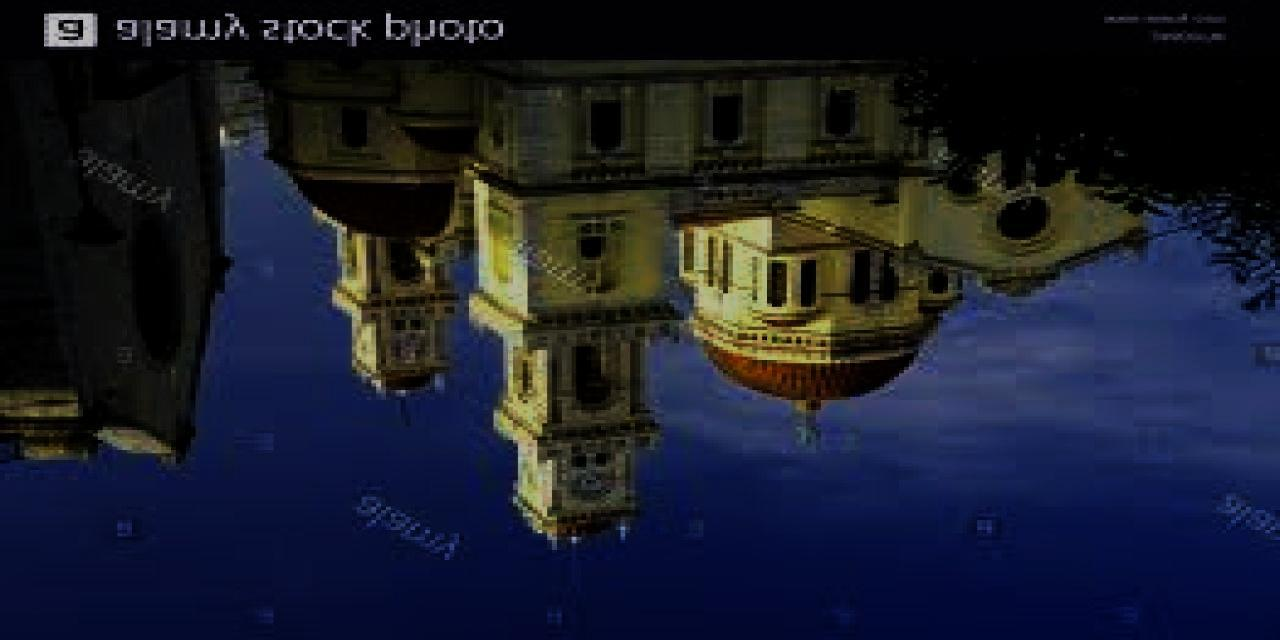Agios Minas: (253, 60, 1153, 544)
